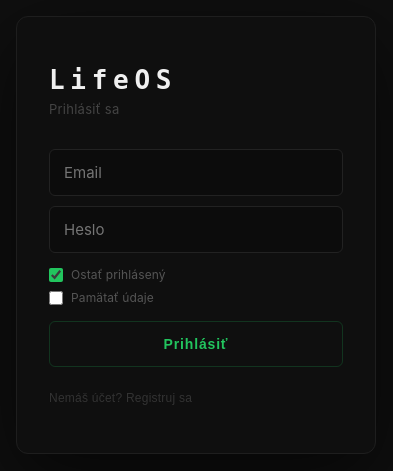
AuthPage › form submission — register › shows error when api.register throws
Click the button "Nemáš účet? Registruj sa". click: (121, 398)
box: [49,391,192,405]
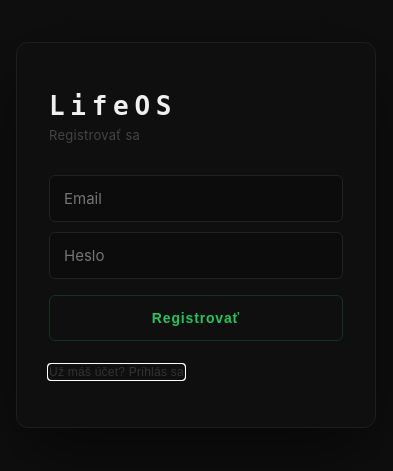
Type "taken@example.com" into the field with placeholder "Email". click: (196, 198)
box: [49,175,343,222]
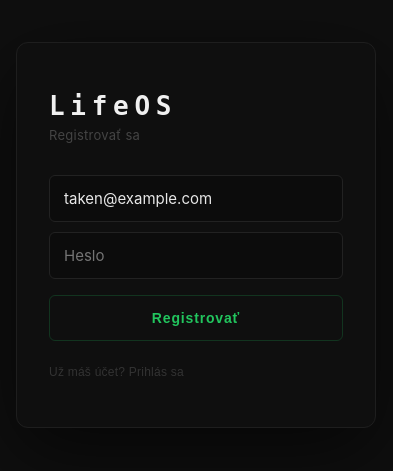
Type "somepassword" into the password field with placeholder "Heslo". click: (196, 256)
box: [49,232,343,279]
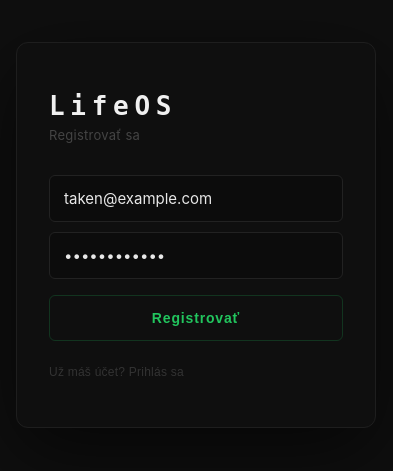
Click the button "Registrovať". click: (196, 318)
box: [49,295,343,341]
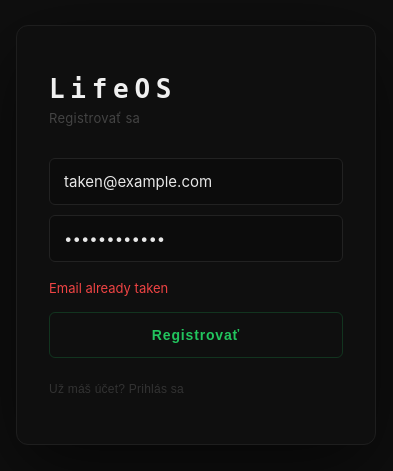
Expected: the text "Email already taken" is shown, [49,280,168,296]
